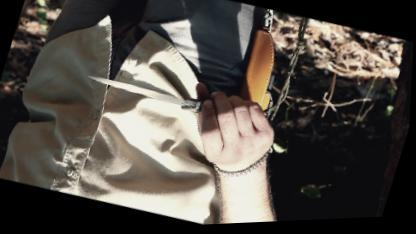knife: (71, 48, 278, 162)
